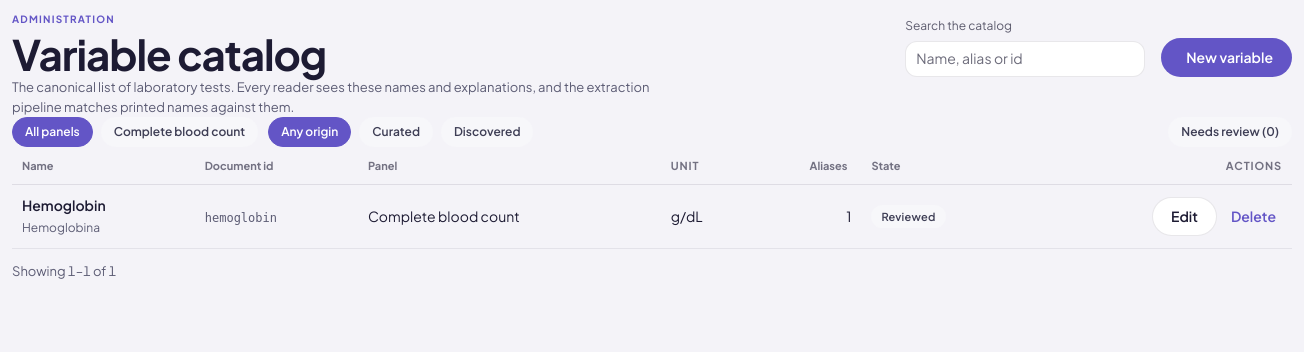
AdminVariables › says so when a filter leaves nothing
Type "thyroxine" into the search field labelled "Search the catalog" at (1025,58), box [905,40,1145,76]
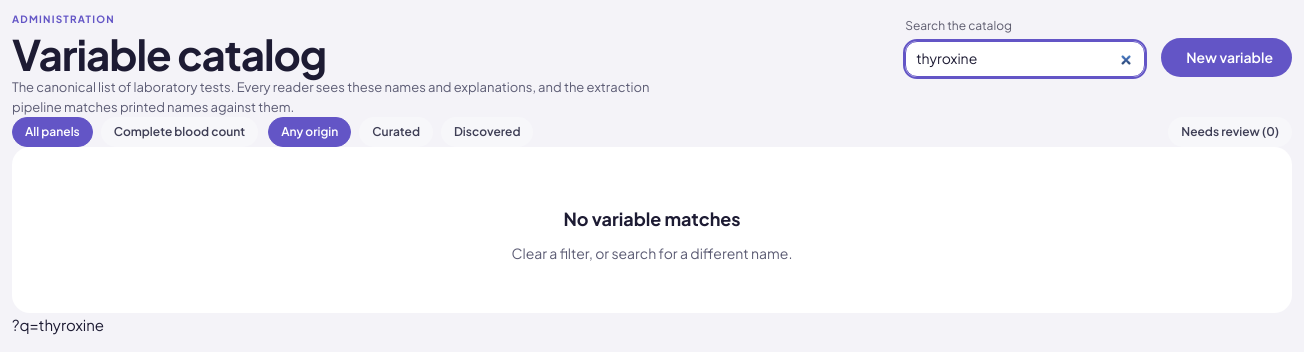
expect the text "No variable matches" is shown: met, box [563,205,741,233]
